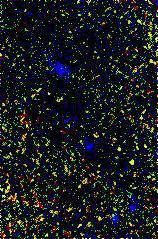star: (117, 149, 147, 179)
